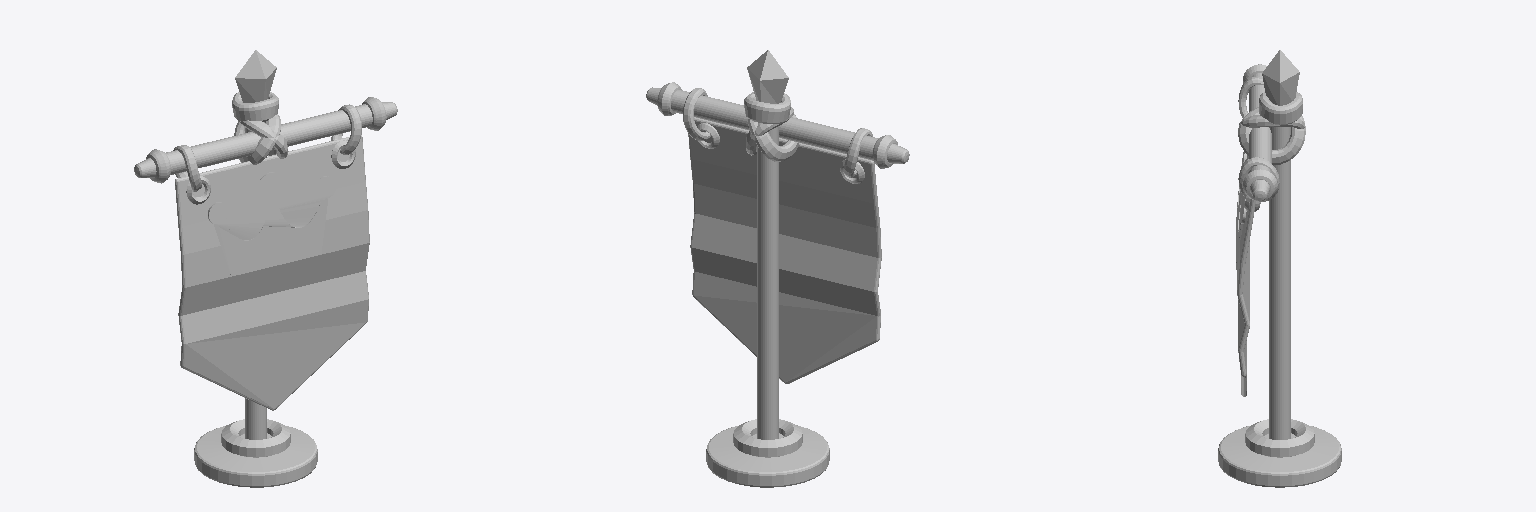
Rendered from kingflag.obj.
3 renders of one model, left to right at view 1: azimuth 30°, elevation 25°; view 2: azimuth 150°, elevation 25°; view 3: azimuth 270°, elevation 25°, orthographic.
Parts seen in each view (by area): view 1: kingflag; view 2: kingflag; view 3: kingflag.
Part boxes in pixels (x1,y1,x2,y2): kingflag: (134,50,397,487); kingflag: (646,50,909,487); kingflag: (1218,50,1341,487).
Size of the model in its own units: 3.79 by 5.78 by 1.57.